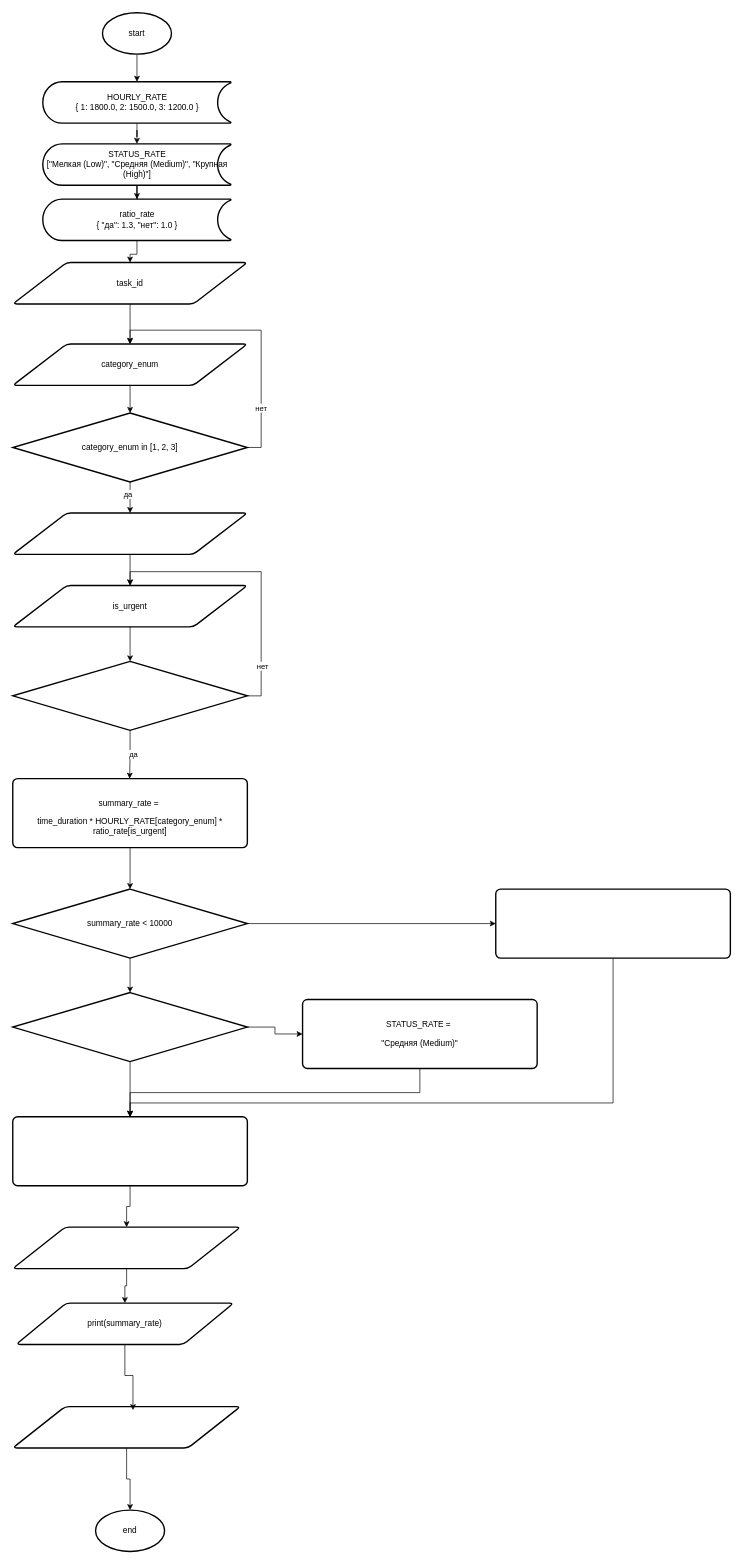
The diagram is 742 pixels wide and 1564 high, and some of its shapes have lost their labels. The centre of each missing label's shape, as x and y in pixels:
is_urgent is ["да", "нет"]: point (130, 695)
print(HOURLY_RATE[category_enum]): point (126, 1247)
print(STATUS_RATE): point (126, 1427)
STATUS_RATE = "Крупная (High)": point (130, 1151)
STATUS_RATE = "Мелкая (Low)": point (613, 923)
summary_rate < 30000: point (130, 1027)
time_duration: point (130, 533)
